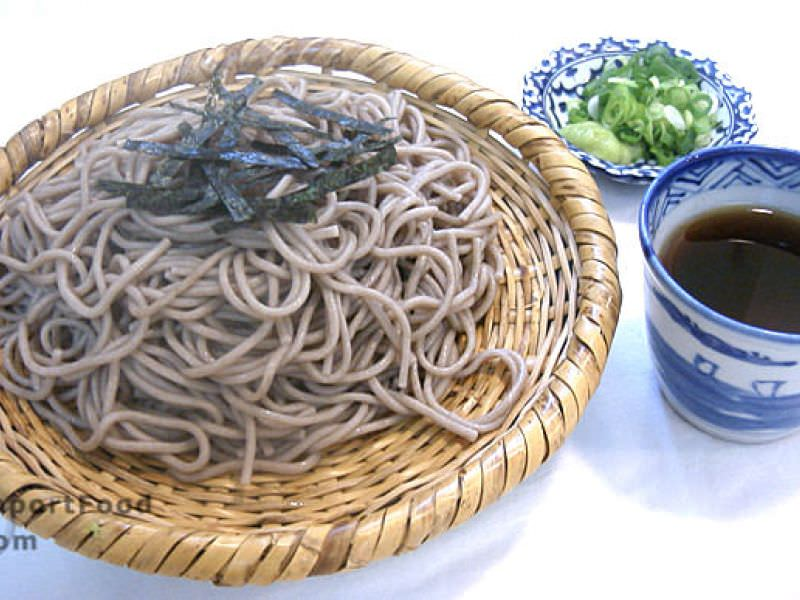Soba: (10, 68, 530, 513)
